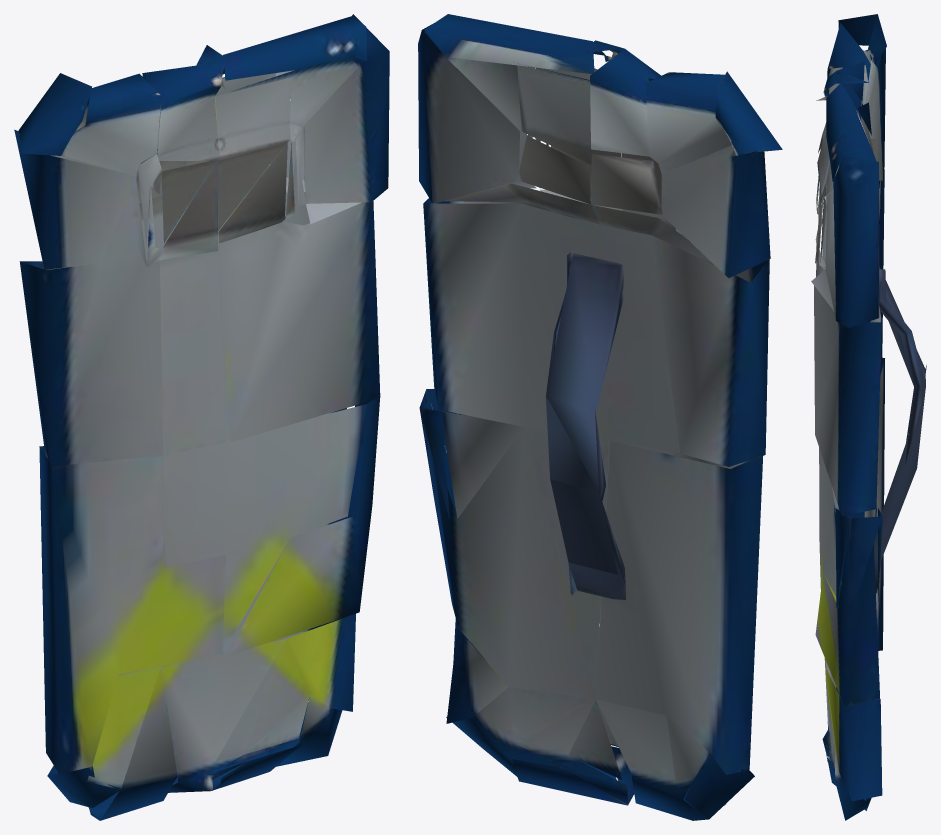
File: m_shield_crest_lod1.fbx
The picture shows the model from 3 angles, left to right: view 1: azimuth 30°, elevation 25°; view 2: azimuth 150°, elevation 25°; view 3: azimuth 270°, elevation 25°; orthographic projection. The views are drawn at different scales.
Parts seen in each view (by area): view 1: tripo_node_cdfcce38-8cc5-4d3e-9b54-8f14a6e53ac8; view 2: tripo_node_cdfcce38-8cc5-4d3e-9b54-8f14a6e53ac8; view 3: tripo_node_cdfcce38-8cc5-4d3e-9b54-8f14a6e53ac8.
Part boxes in pixels (left/top/right/bottom): tripo_node_cdfcce38-8cc5-4d3e-9b54-8f14a6e53ac8: left=14, top=14, right=389, bottom=820; tripo_node_cdfcce38-8cc5-4d3e-9b54-8f14a6e53ac8: left=418, top=14, right=782, bottom=820; tripo_node_cdfcce38-8cc5-4d3e-9b54-8f14a6e53ac8: left=811, top=14, right=926, bottom=820.
Size of the model in its own units: 0.4913 by 0.9555 by 0.1426.
